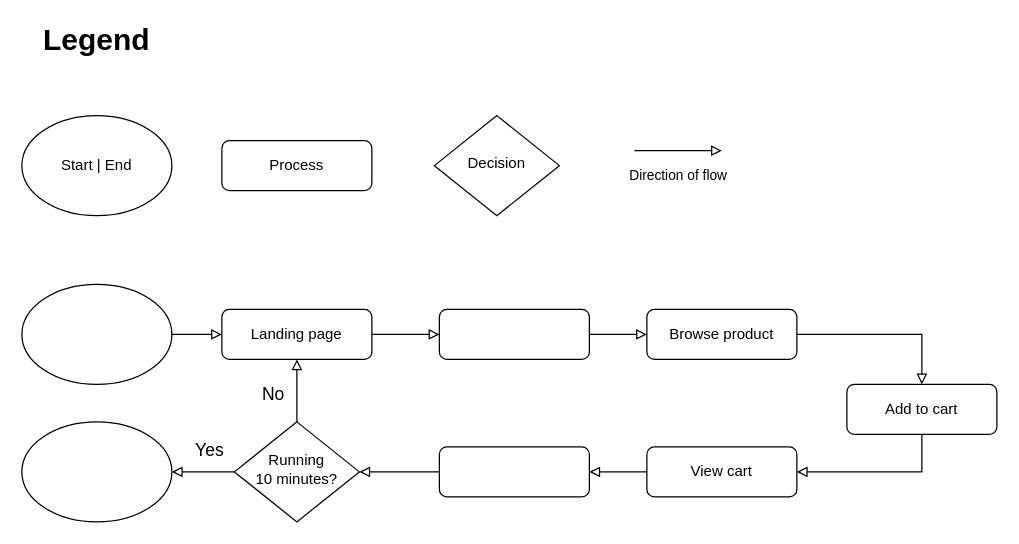
This 1019x544 diagram has some shape labels left out. Each missing label, with the centre of its shape:
"Checkout" goes at [513,471].
"End" goes at [96,471].
"Set currency" goes at [513,333].
"Start" goes at [96,333].
